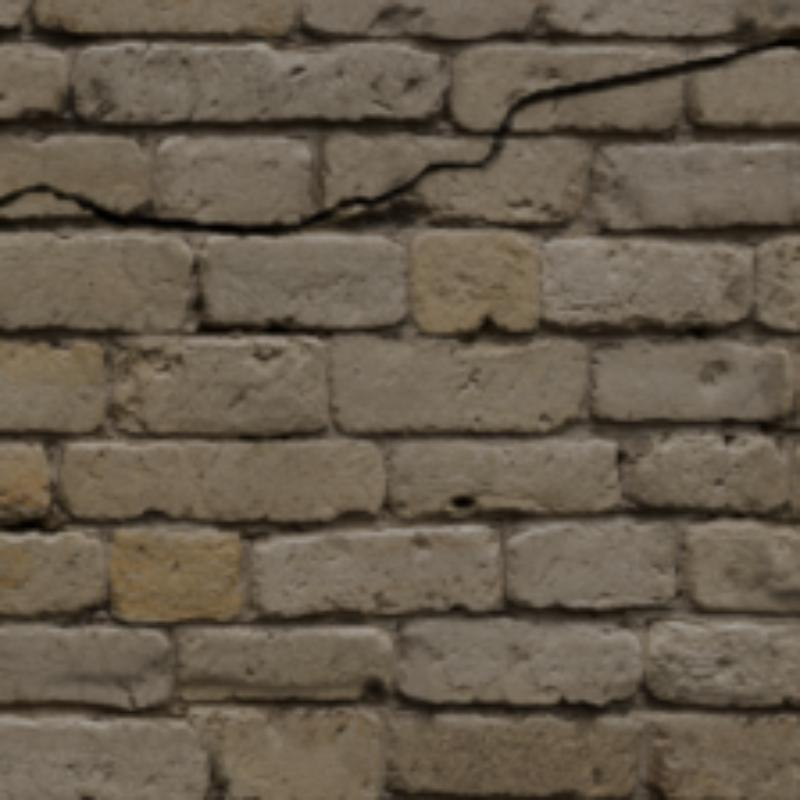pothole: (0, 36, 796, 232)
